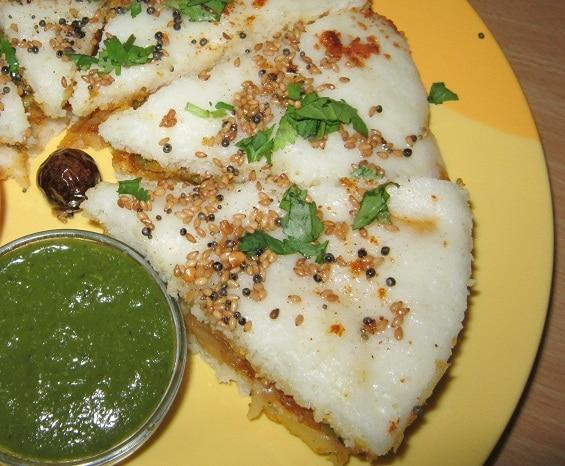dhokla: (1, 4, 459, 445)
